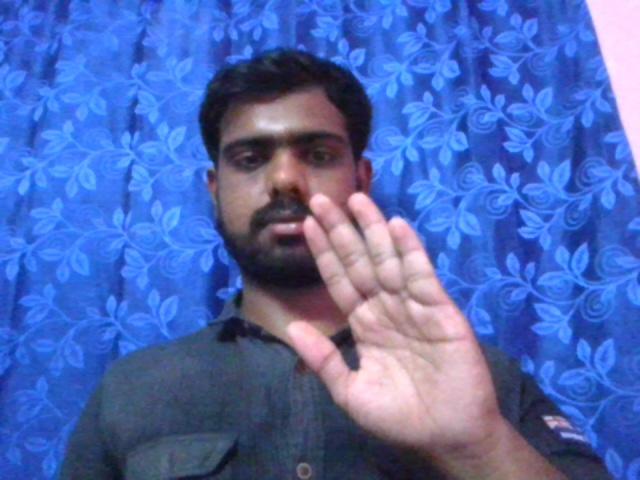Hello: (282, 191, 492, 447)
